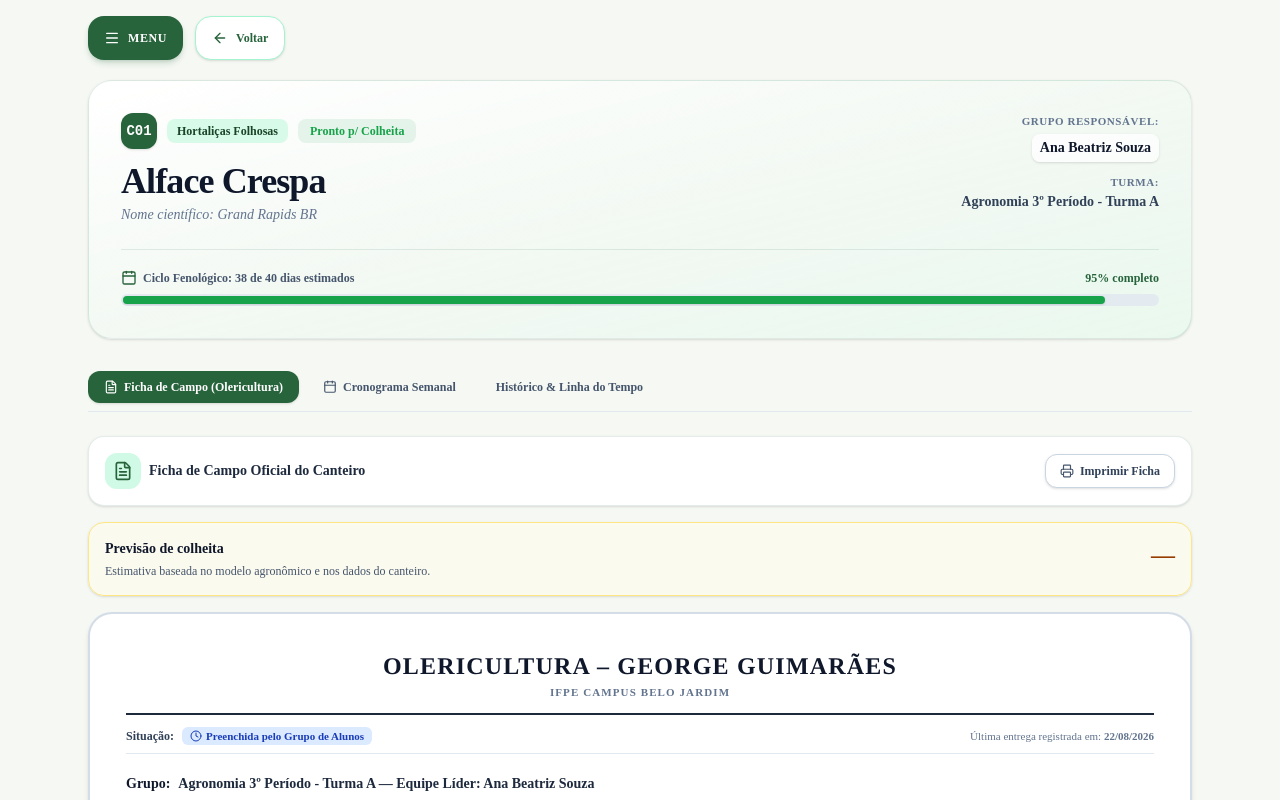
CanteiroDetailPage › deve alternar para a aba de Cronograma Semanal e exibir o cronograma de manejo da aluna
# Clicar na aba
Click the button "Cronograma Semanal" at (389, 387), box [307,371,472,403]
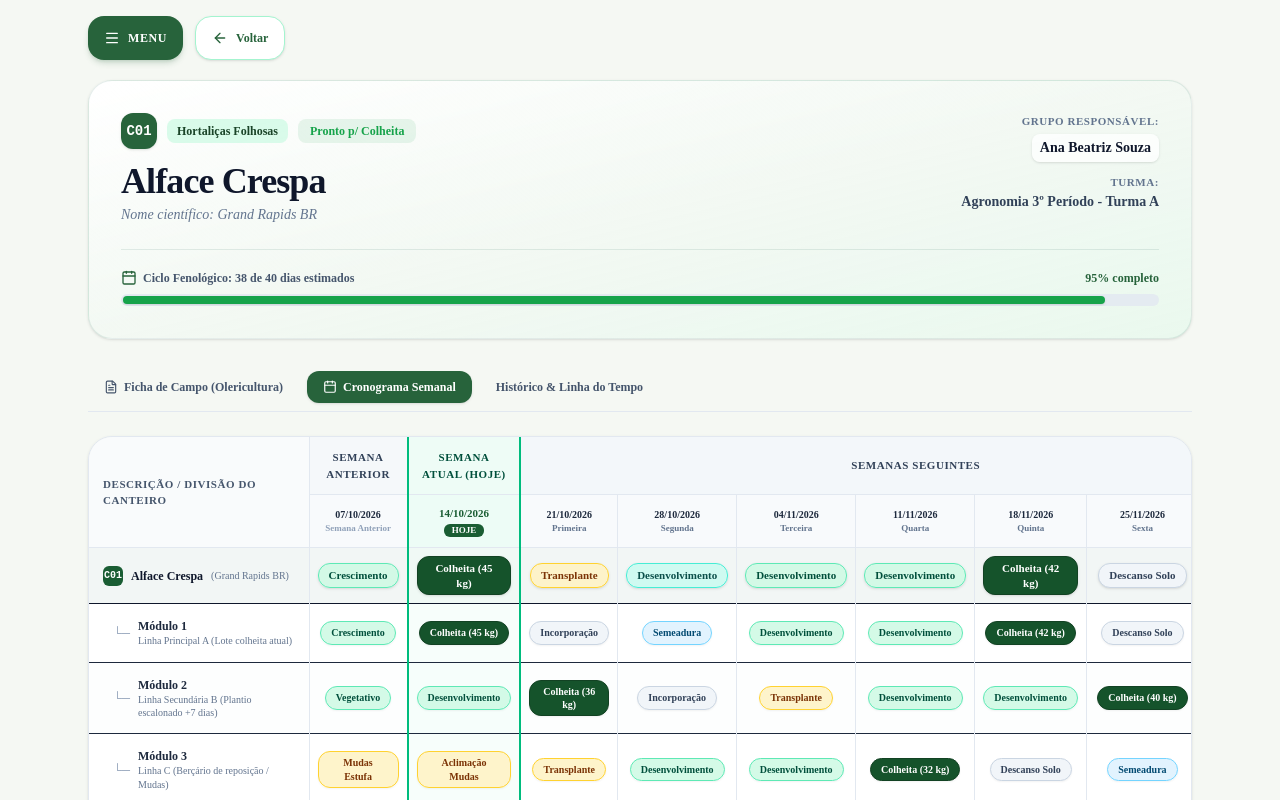
Check: the column heading "Semana Atual (HOJE)" is shown, box [408,437,520,494]
Check: the text "Módulo 1" is shown, box [138,619,187,633]
Check: the text "Módulo 2" is shown, box [138,678,187,692]
